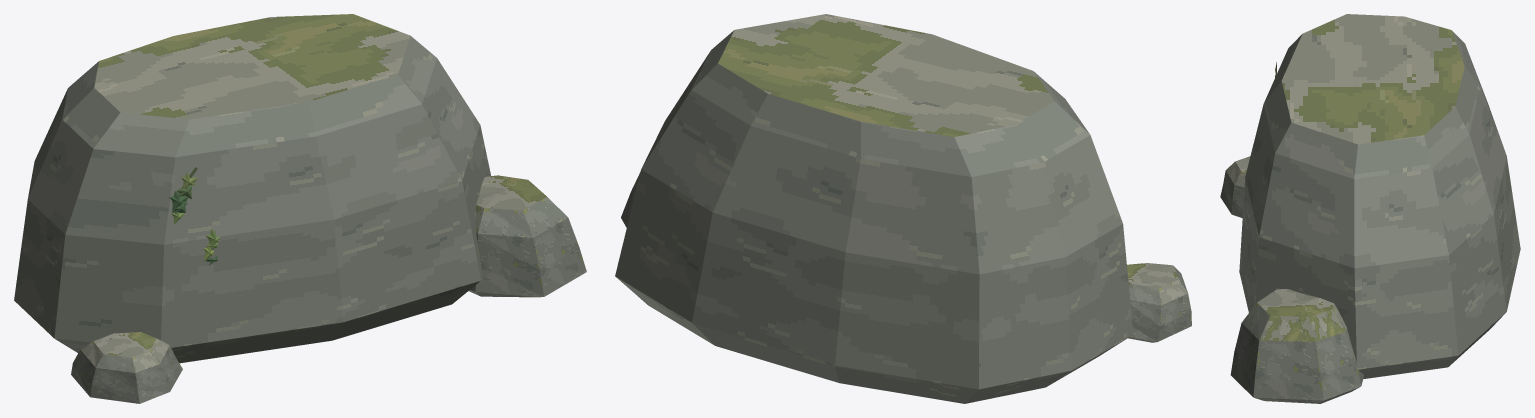
Rendered from rock_cover_2m.glb.
3 renders of one model, left to right at view 1: azimuth 30°, elevation 25°; view 2: azimuth 150°, elevation 25°; view 3: azimuth 270°, elevation 25°, orthographic. The views are drawn at different scales.
Parts seen in each view (by area): view 1: rock_cover_2m; view 2: rock_cover_2m; view 3: rock_cover_2m.
Part boxes in pixels (x1,y1,x2,y2): rock_cover_2m: (14,14,586,403); rock_cover_2m: (615,14,1191,403); rock_cover_2m: (1220,14,1520,403).
Bounding box in the file's own units: 4.54 × 2 × 2.61.
Materials: 2 (1 with a texture image).
